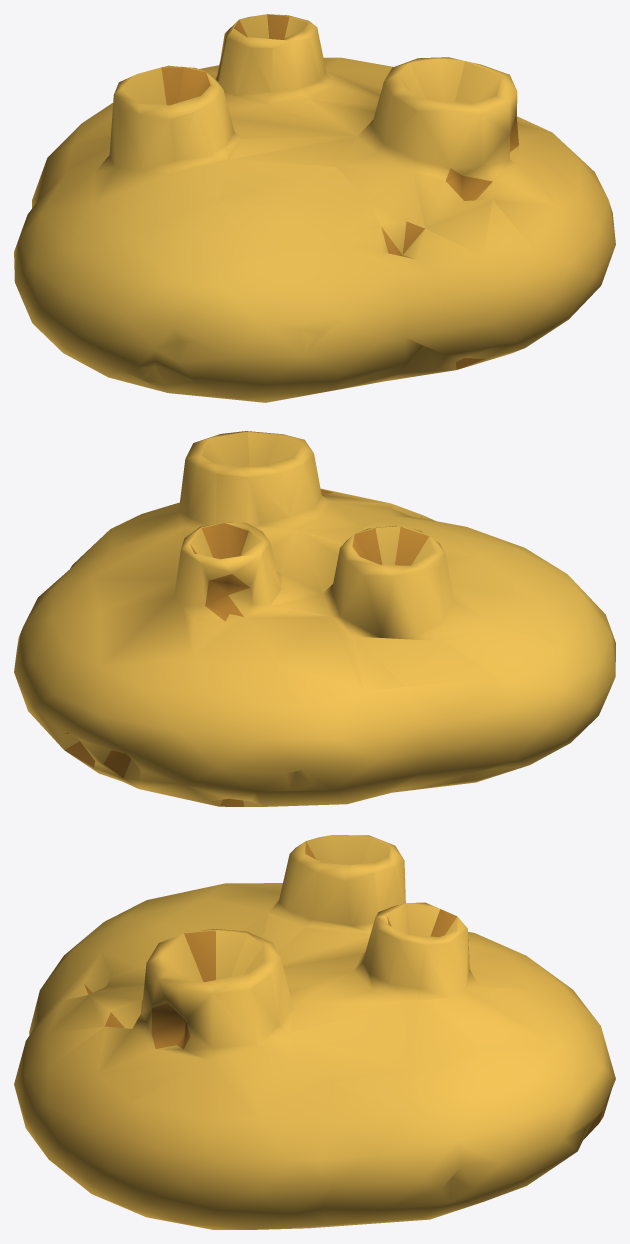
File: shore_sea_sponge_lod2.glb
The picture shows the model from 3 angles, top to bottom: view 1: azimuth 30°, elevation 25°; view 2: azimuth 150°, elevation 25°; view 3: azimuth 270°, elevation 25°; orthographic projection. The views are drawn at different scales.
Visible parts, largest first — view 1: shore_sea_sponge.001; view 2: shore_sea_sponge.001; view 3: shore_sea_sponge.001.
Boxes of the visible parts, <box> form: shore_sea_sponge.001: <box>14,14,615,402</box>; shore_sea_sponge.001: <box>14,431,615,806</box>; shore_sea_sponge.001: <box>14,835,615,1229</box>.
Bounding box in the file's own units: 4.57 × 1.84 × 4.37.
